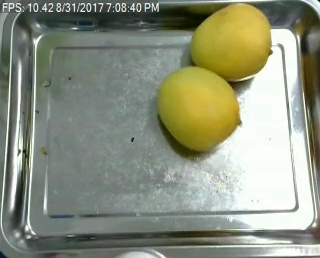Mango: (155, 67, 241, 151), (187, 2, 274, 79)
